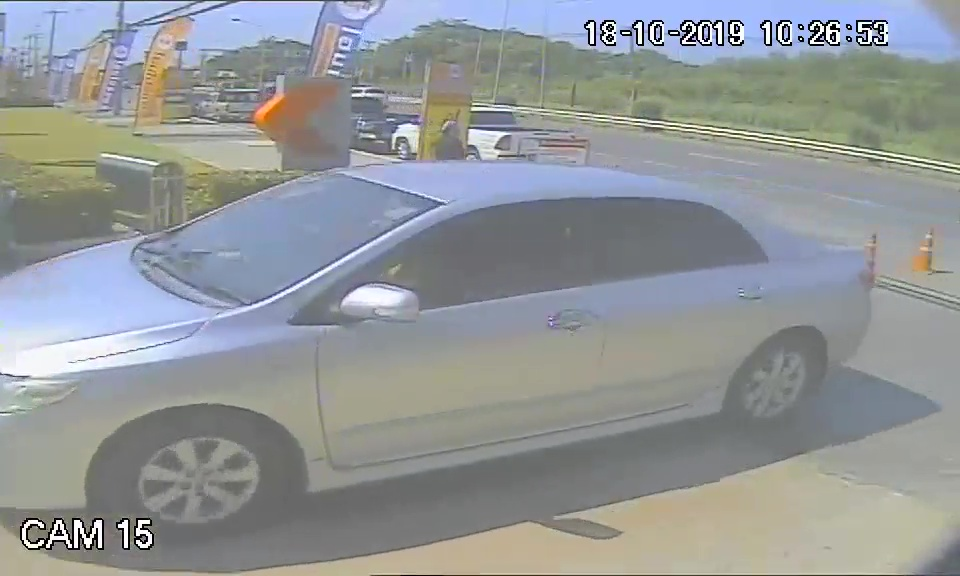sedan: (9, 161, 876, 510)
